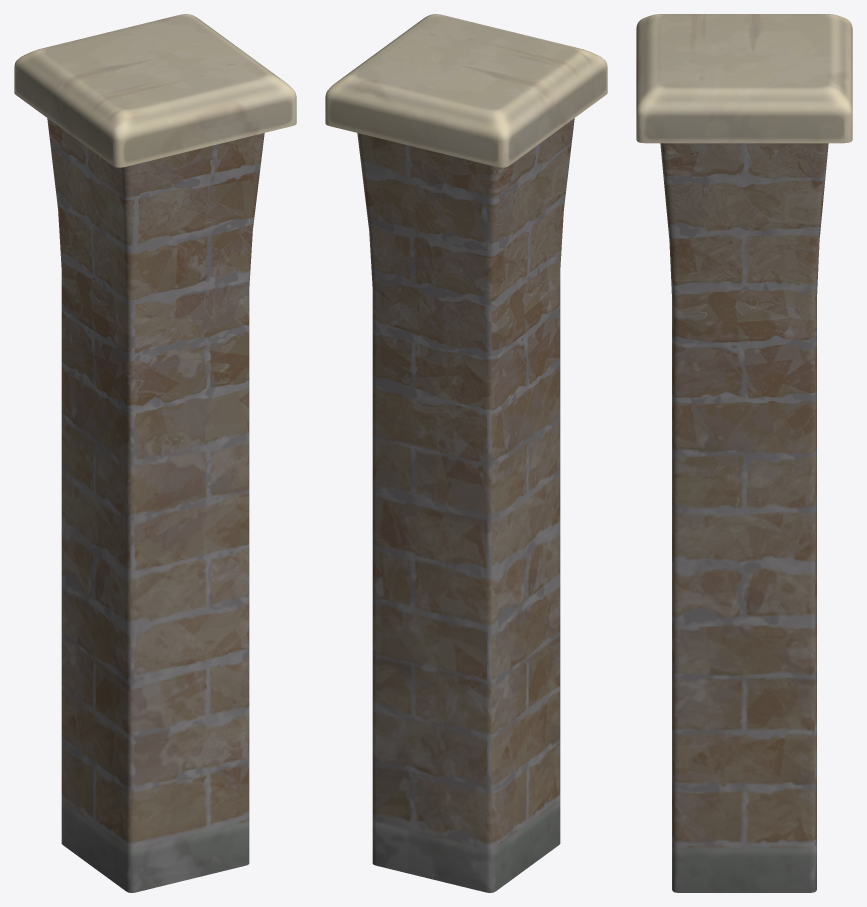
File: StreetFence02_A1.FBX
The picture shows the model from 3 angles, left to right: view 1: azimuth 30°, elevation 25°; view 2: azimuth 150°, elevation 25°; view 3: azimuth 270°, elevation 25°; orthographic projection. The views are drawn at different scales.
Parts seen in each view (by area): view 1: StreetFence02_A1; view 2: StreetFence02_A1; view 3: StreetFence02_A1.
Part boxes in pixels (left/top/right/bottom): StreetFence02_A1: left=14, top=14, right=296, bottom=892; StreetFence02_A1: left=325, top=14, right=607, bottom=892; StreetFence02_A1: left=636, top=14, right=852, bottom=892.
Size of what is drawn, in the model's own units: 0.4485 by 1.86 by 0.4485.
